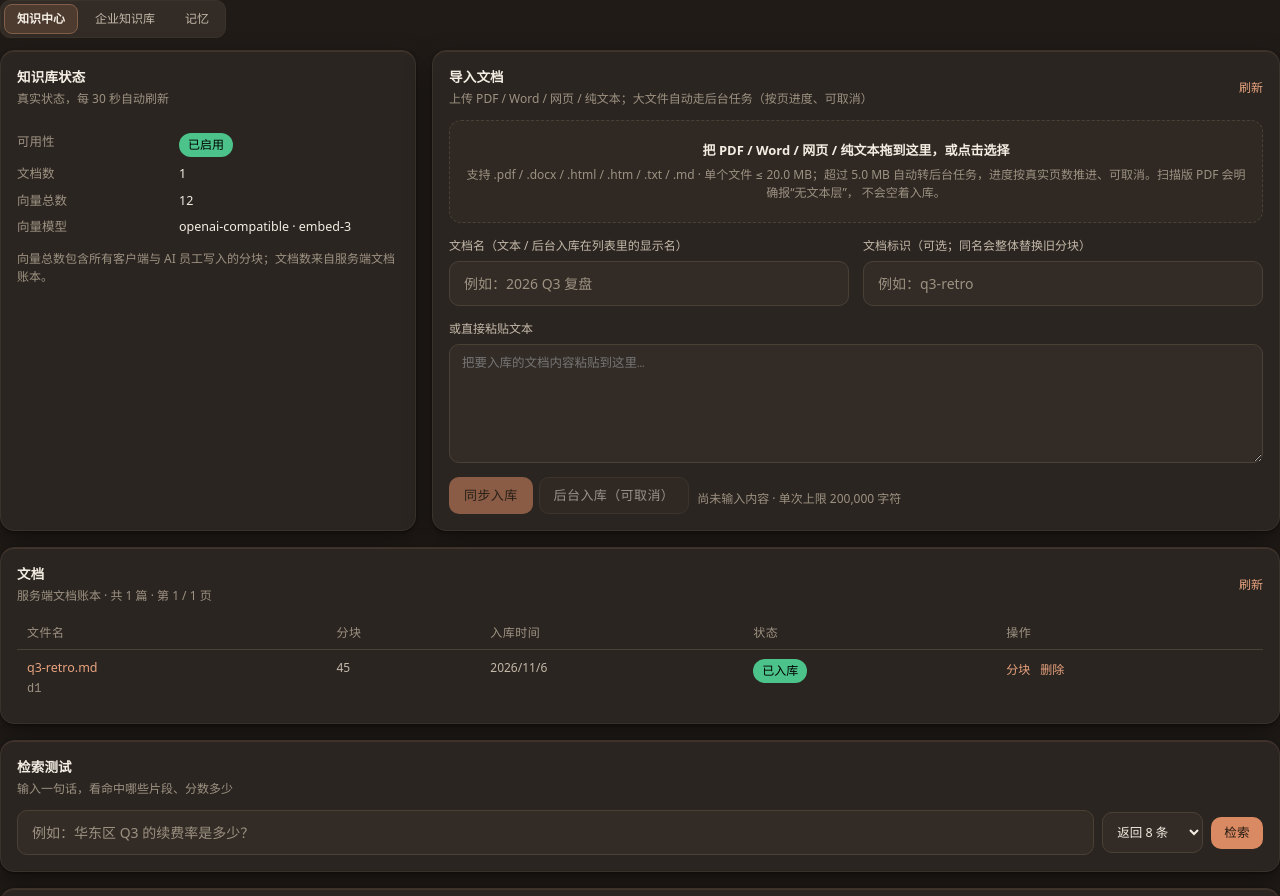
知识中心 · 删除 › 先二次确认并写明不可恢复，确认后才发 DELETE
Expected: the button "q3-retro.md" is shown, [27, 659, 98, 678]
Click the button "删除" at (1052, 670), box [1040, 659, 1064, 681]
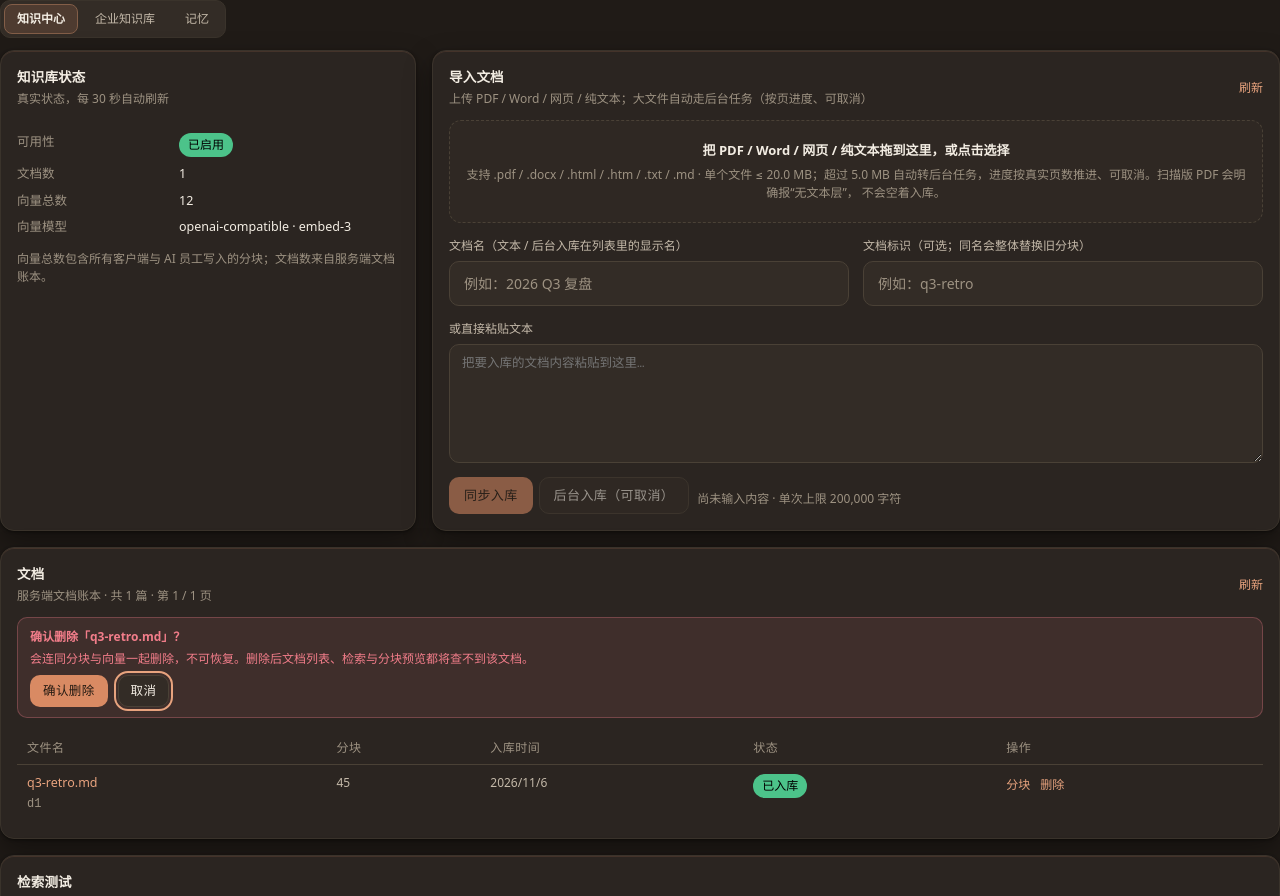
Expected: the text "确认删除「q3-retro.md」？" is shown, [30, 628, 185, 645]
Expected: the text "会连同分块与向量一起删除，不可恢复。删除后文档列表、检索与分块预览都将查不到该文档。" is shown, [30, 650, 534, 667]
Click the button "确认删除" at (69, 691), box [30, 675, 108, 707]
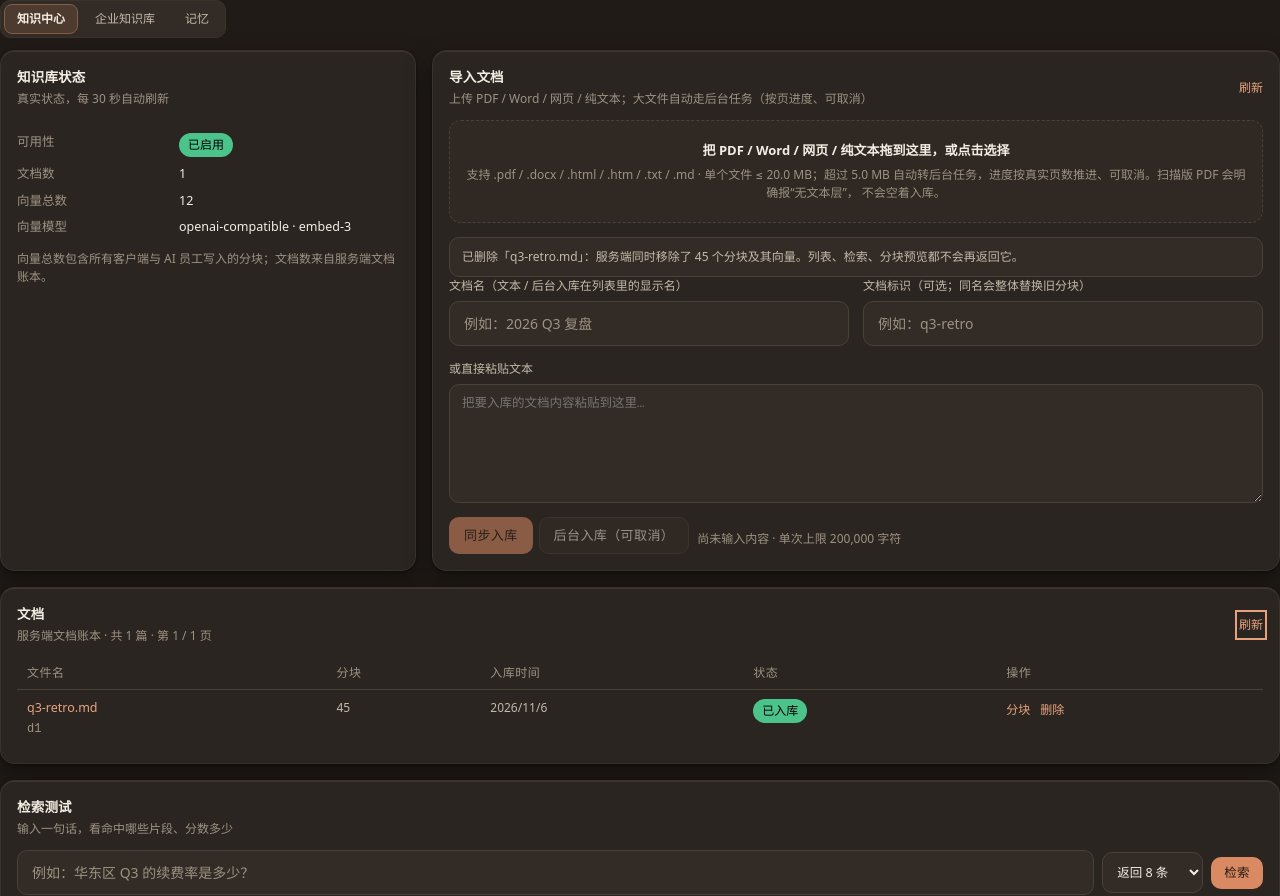
Expected: the text "已删除「q3-retro.md」：服务端同时移除了 45 个分块及其向量。列表、检索、分块预览都不会再返回它。" is shown, [462, 248, 1024, 266]
